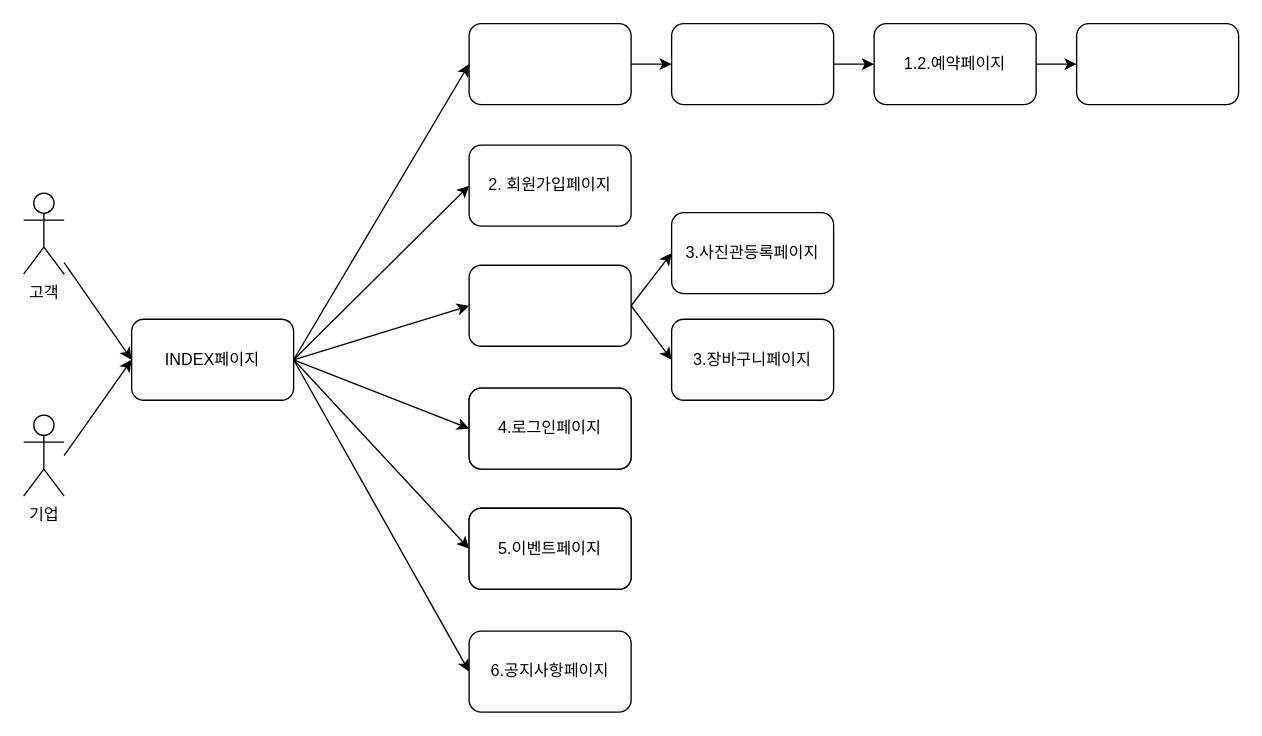
The diagram is 1262 pixels wide and 736 high, and some of its shapes have lost their labels. Each missing label, with the centre of its shape:
1. 검색페이지: point 549,63
1.1.상세페이지: point 752,63
1.3.결제페이지: point 1157,63
3.회원정보페이지: point 549,305
